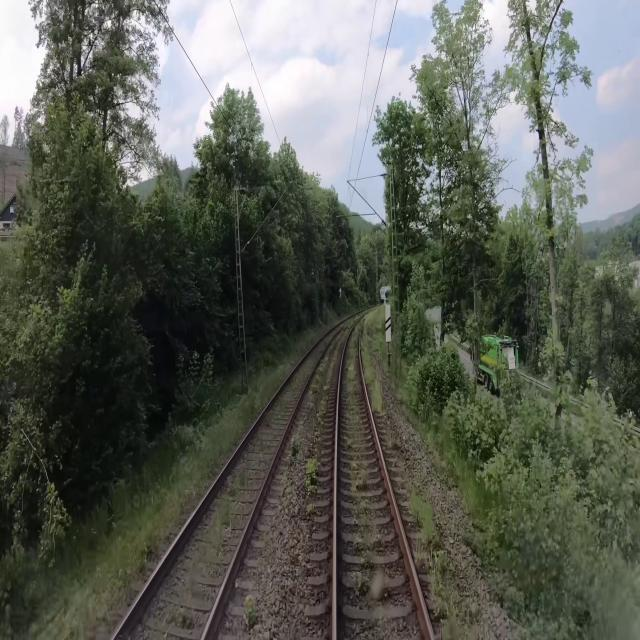Plant: (342, 310, 380, 595), (407, 489, 476, 639), (308, 305, 378, 425), (360, 305, 390, 415), (210, 493, 241, 550), (303, 449, 324, 511), (244, 593, 261, 633), (238, 464, 253, 498), (287, 432, 302, 463), (390, 431, 401, 451)
